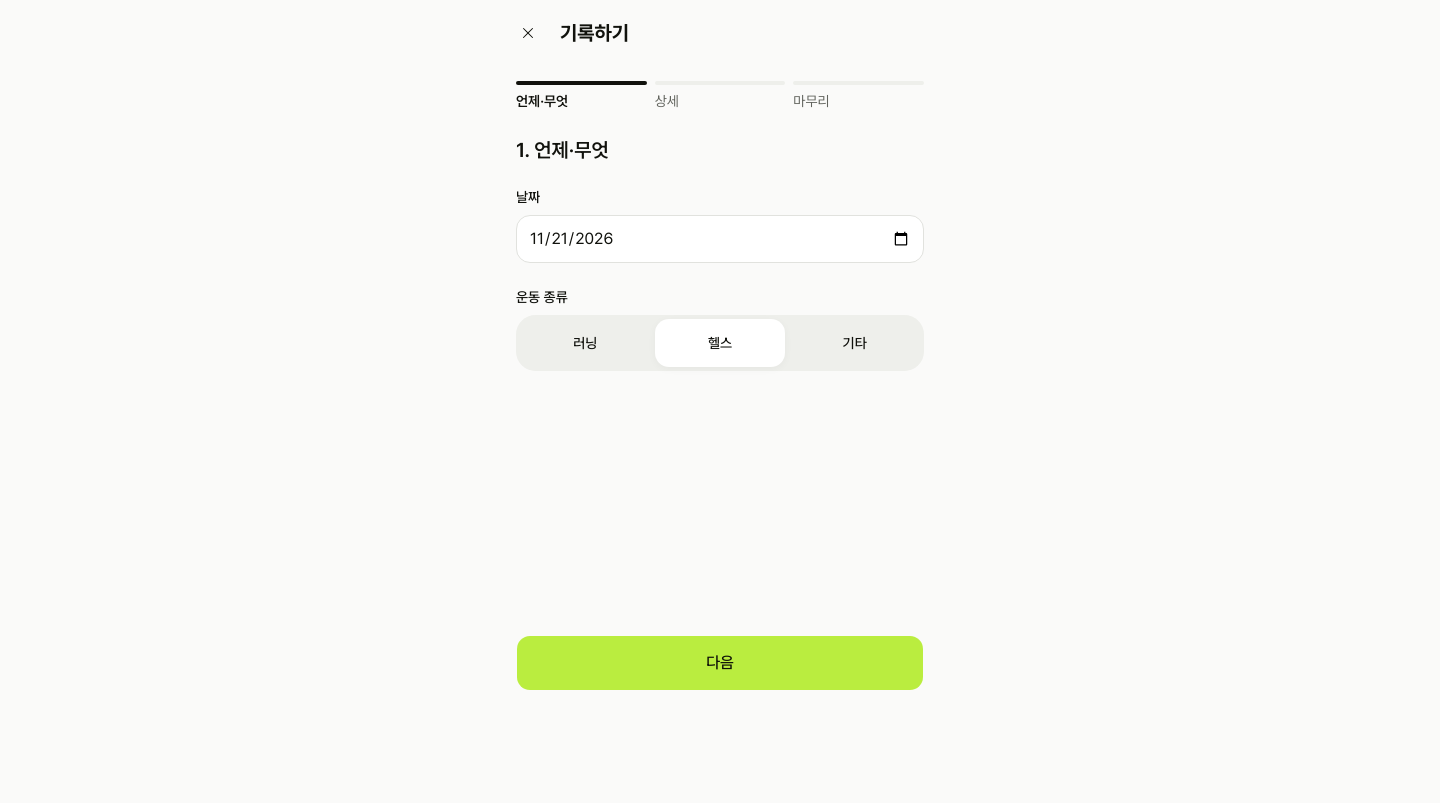
Scenario: 루틴으로 운동한 뒤 루틴 갱신 제안 › 루틴이 그사이 지워져 갱신이 실패하면 짧게 알리고, 확인하면 상세로 간다
Later steps or results of the test are not shown.
Click the button "다음" at (720, 663), box x1=516 y1=635 x2=924 y2=691
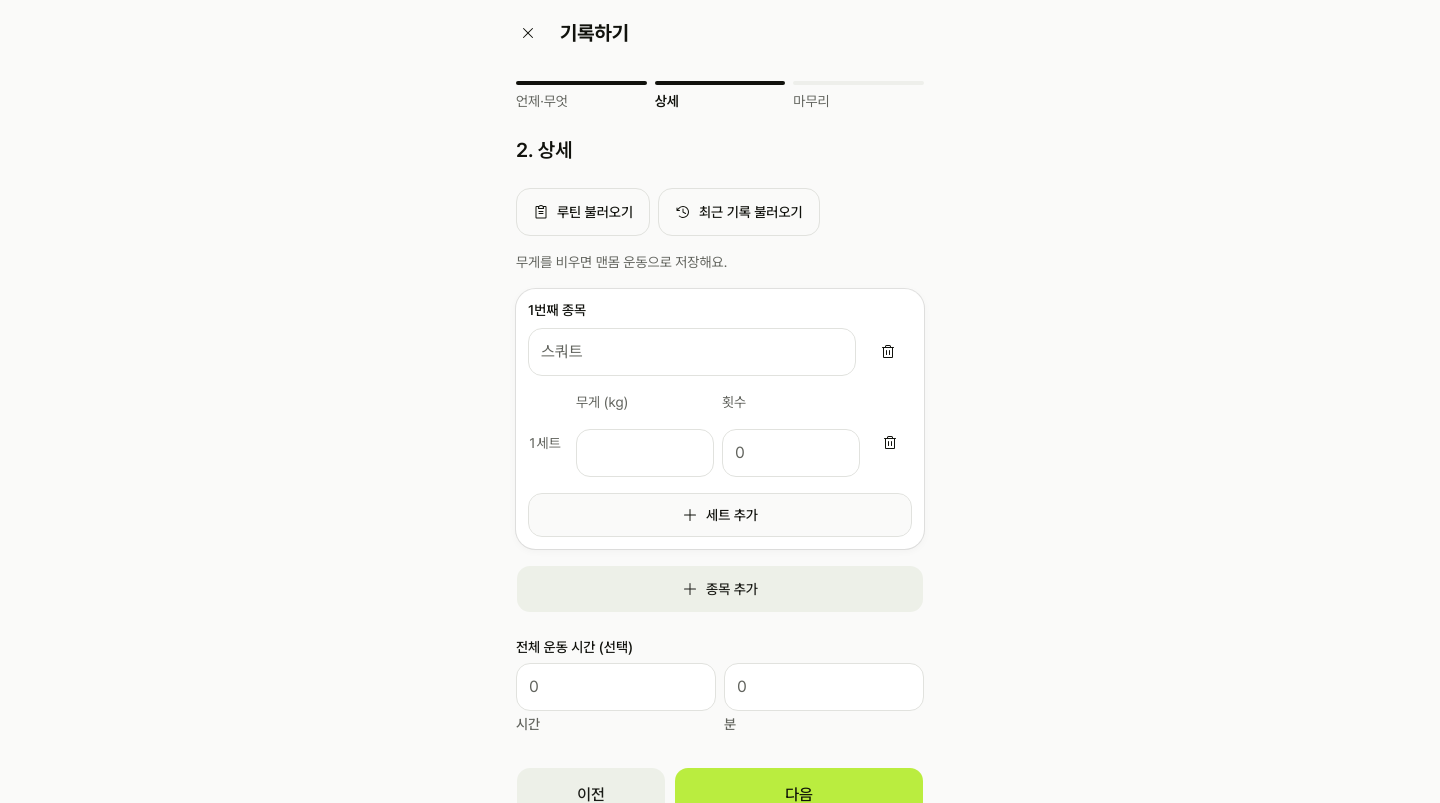
Click the button "루틴 불러오기" at (583, 212), box x1=516 y1=188 x2=650 y2=236
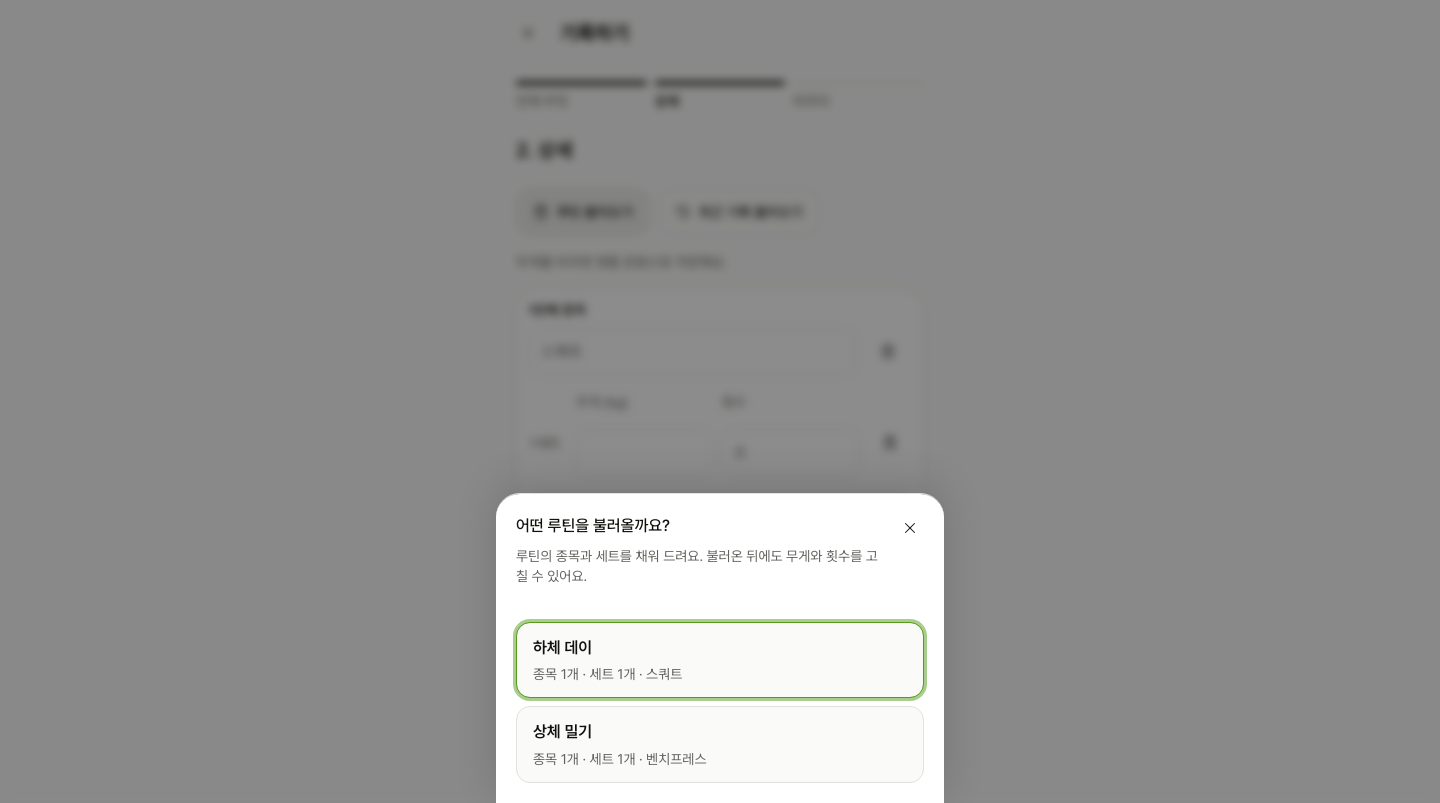
Click the button "하체 데이 종목 1개 · 세트 1개 · 스쿼트" at (563, 647), box x1=516 y1=622 x2=924 y2=698
(page scrolled)
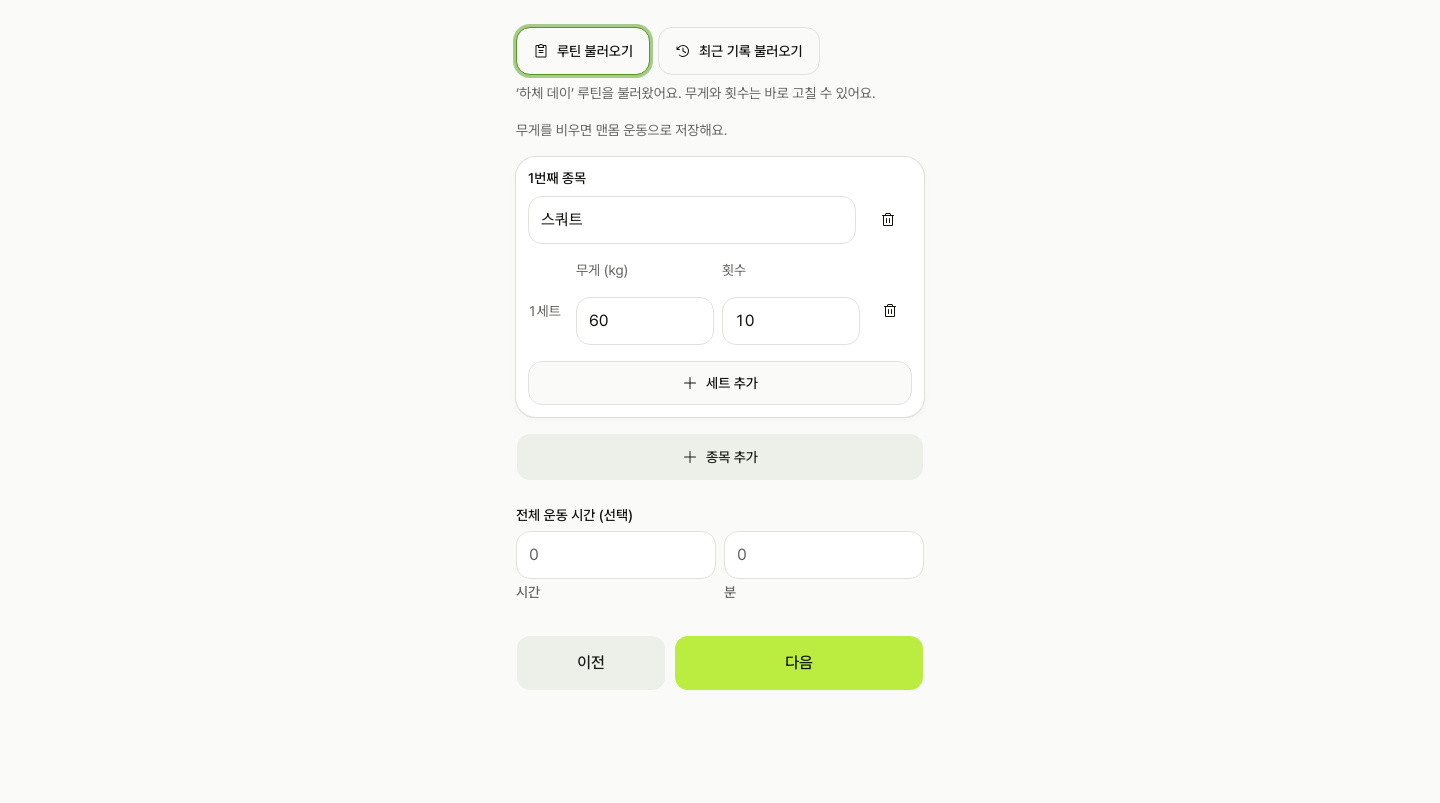
Click the button "다음" at (799, 662), box x1=674 y1=634 x2=924 y2=690
(page scrolled)
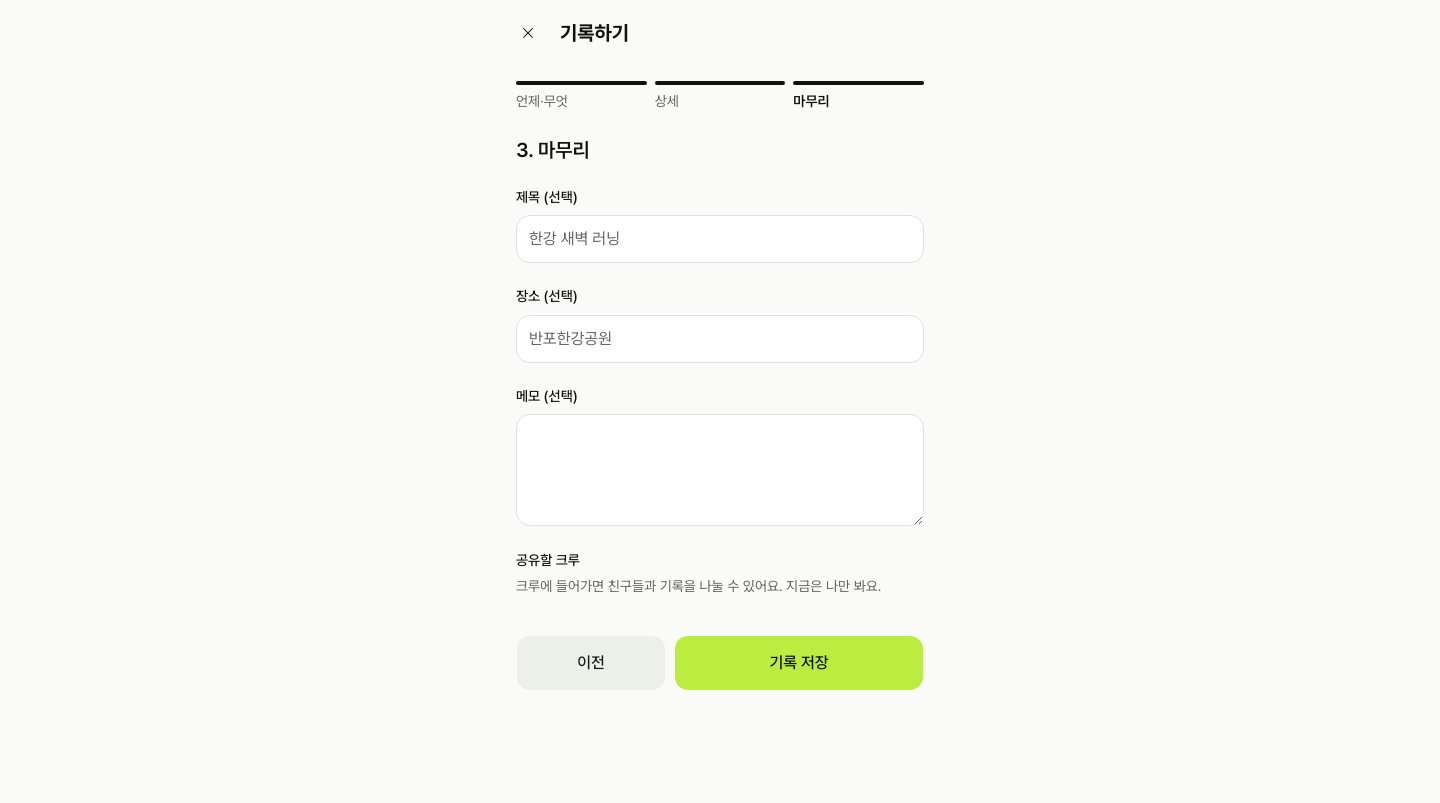
Click the button "기록 저장" at (799, 663), box x1=674 y1=635 x2=924 y2=691
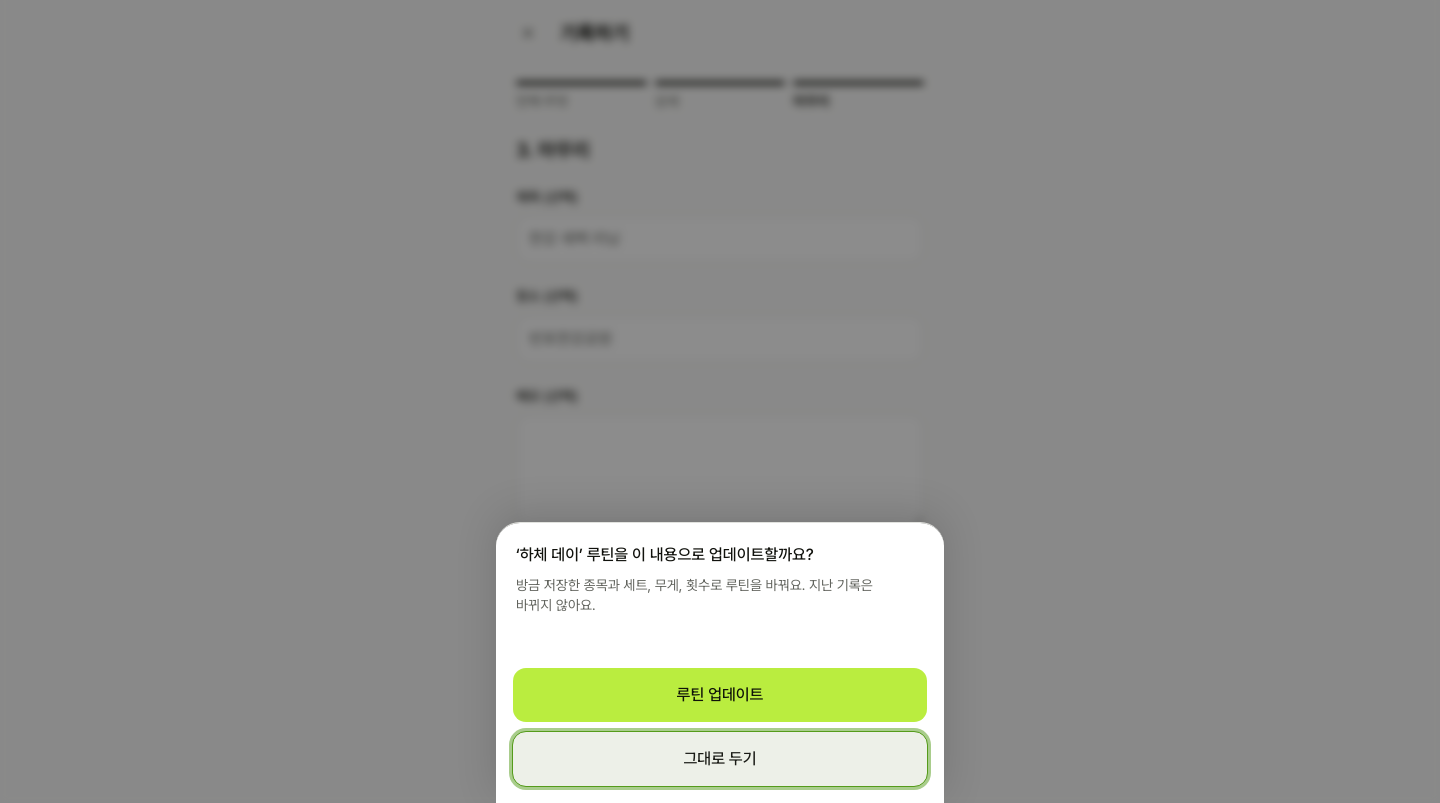
Click the button "루틴 업데이트" at (720, 695), box x1=512 y1=667 x2=928 y2=723
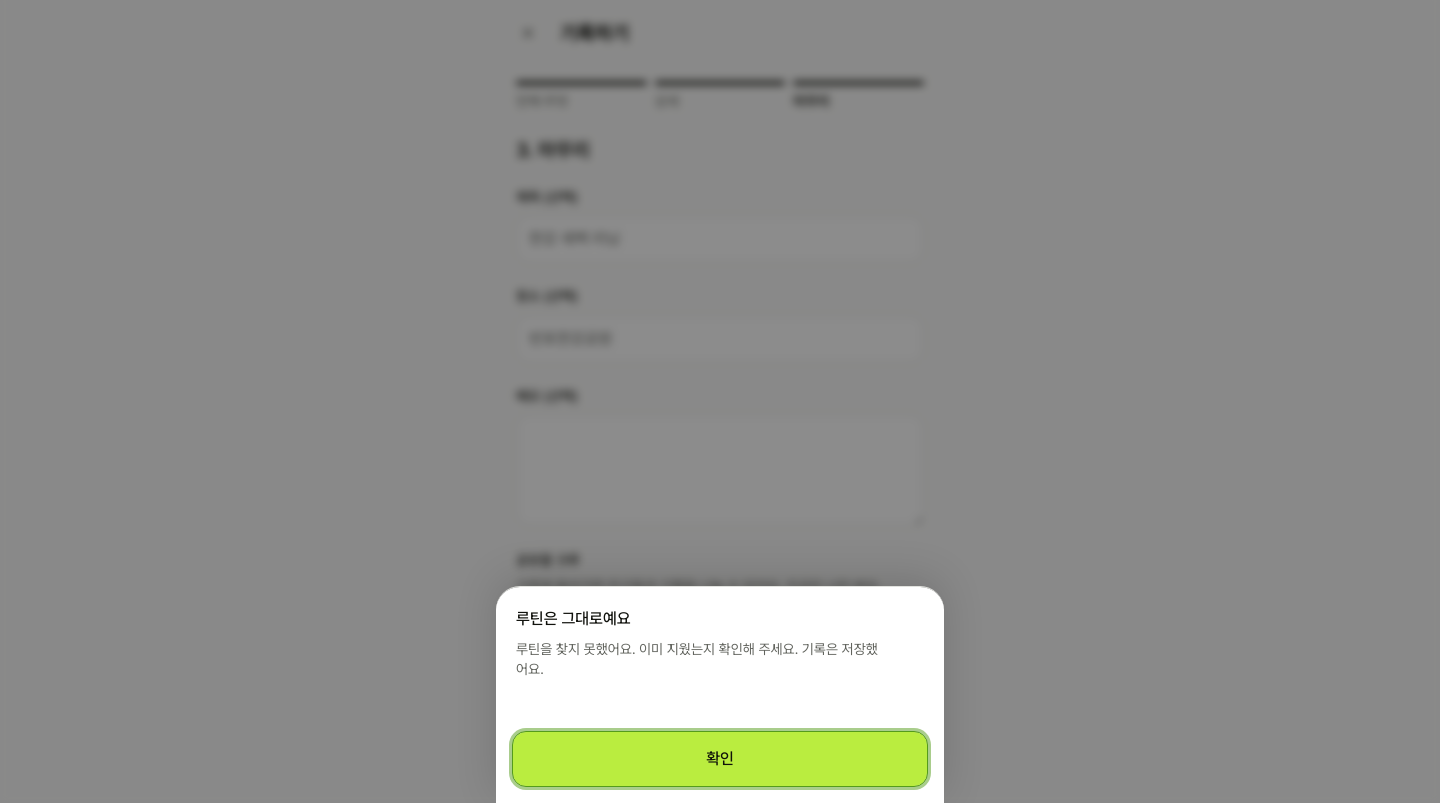
Now the dialog "루틴은 그대로예요" shows "루틴을 찾지 못했어요. 이미 지웠는지 확인해 주세요. 기록은 저장했어요.", box x1=496 y1=586 x2=944 y2=802
